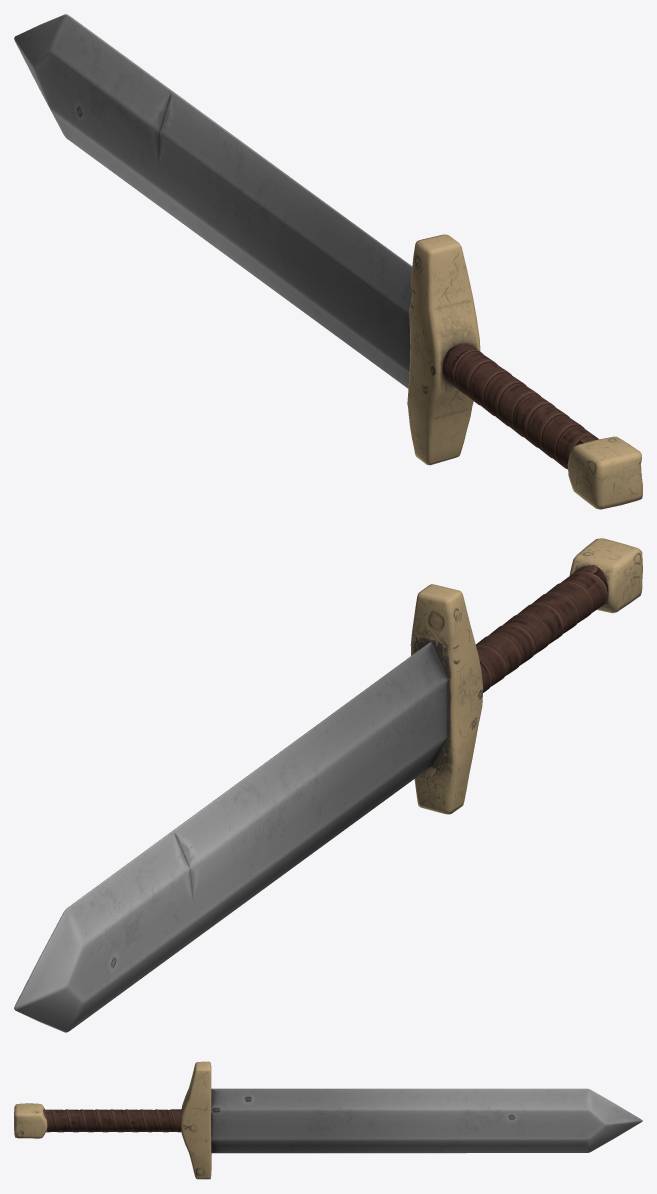
The model's file is sword.fbx.
The picture shows the model from 3 angles, top to bottom: view 1: azimuth 30°, elevation 25°; view 2: azimuth 150°, elevation 25°; view 3: azimuth 270°, elevation 25°; orthographic projection. The views are drawn at different scales.
Visible parts, largest first — view 1: Sword; view 2: Sword; view 3: Sword.
Part boxes in pixels (box(x1,y1,x2,y2)): Sword: box(14, 14, 642, 509); Sword: box(14, 538, 642, 1032); Sword: box(14, 1061, 642, 1179).
Size of the model in its own units: 0.0581 by 0.2413 by 1.23.
